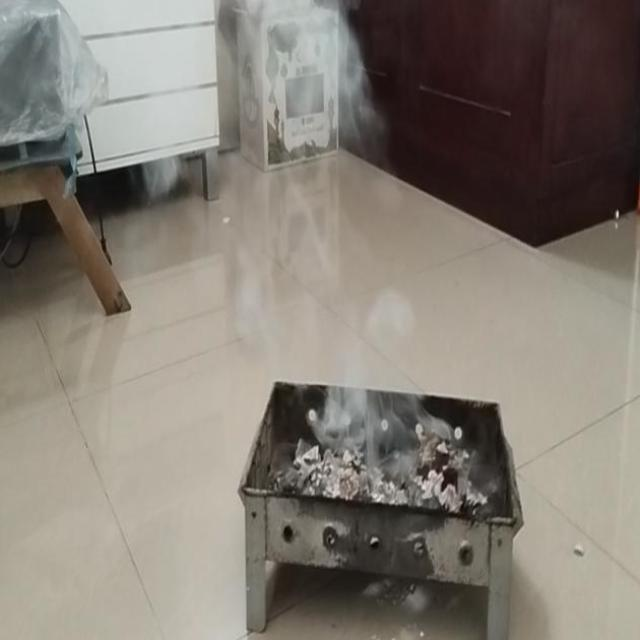fire: (224, 4, 359, 347), (313, 294, 418, 462)
